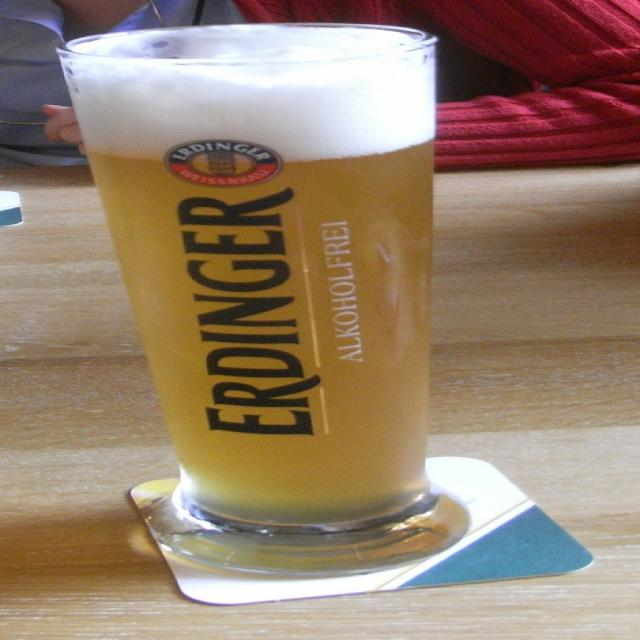erdinger: (166, 141, 287, 190)
